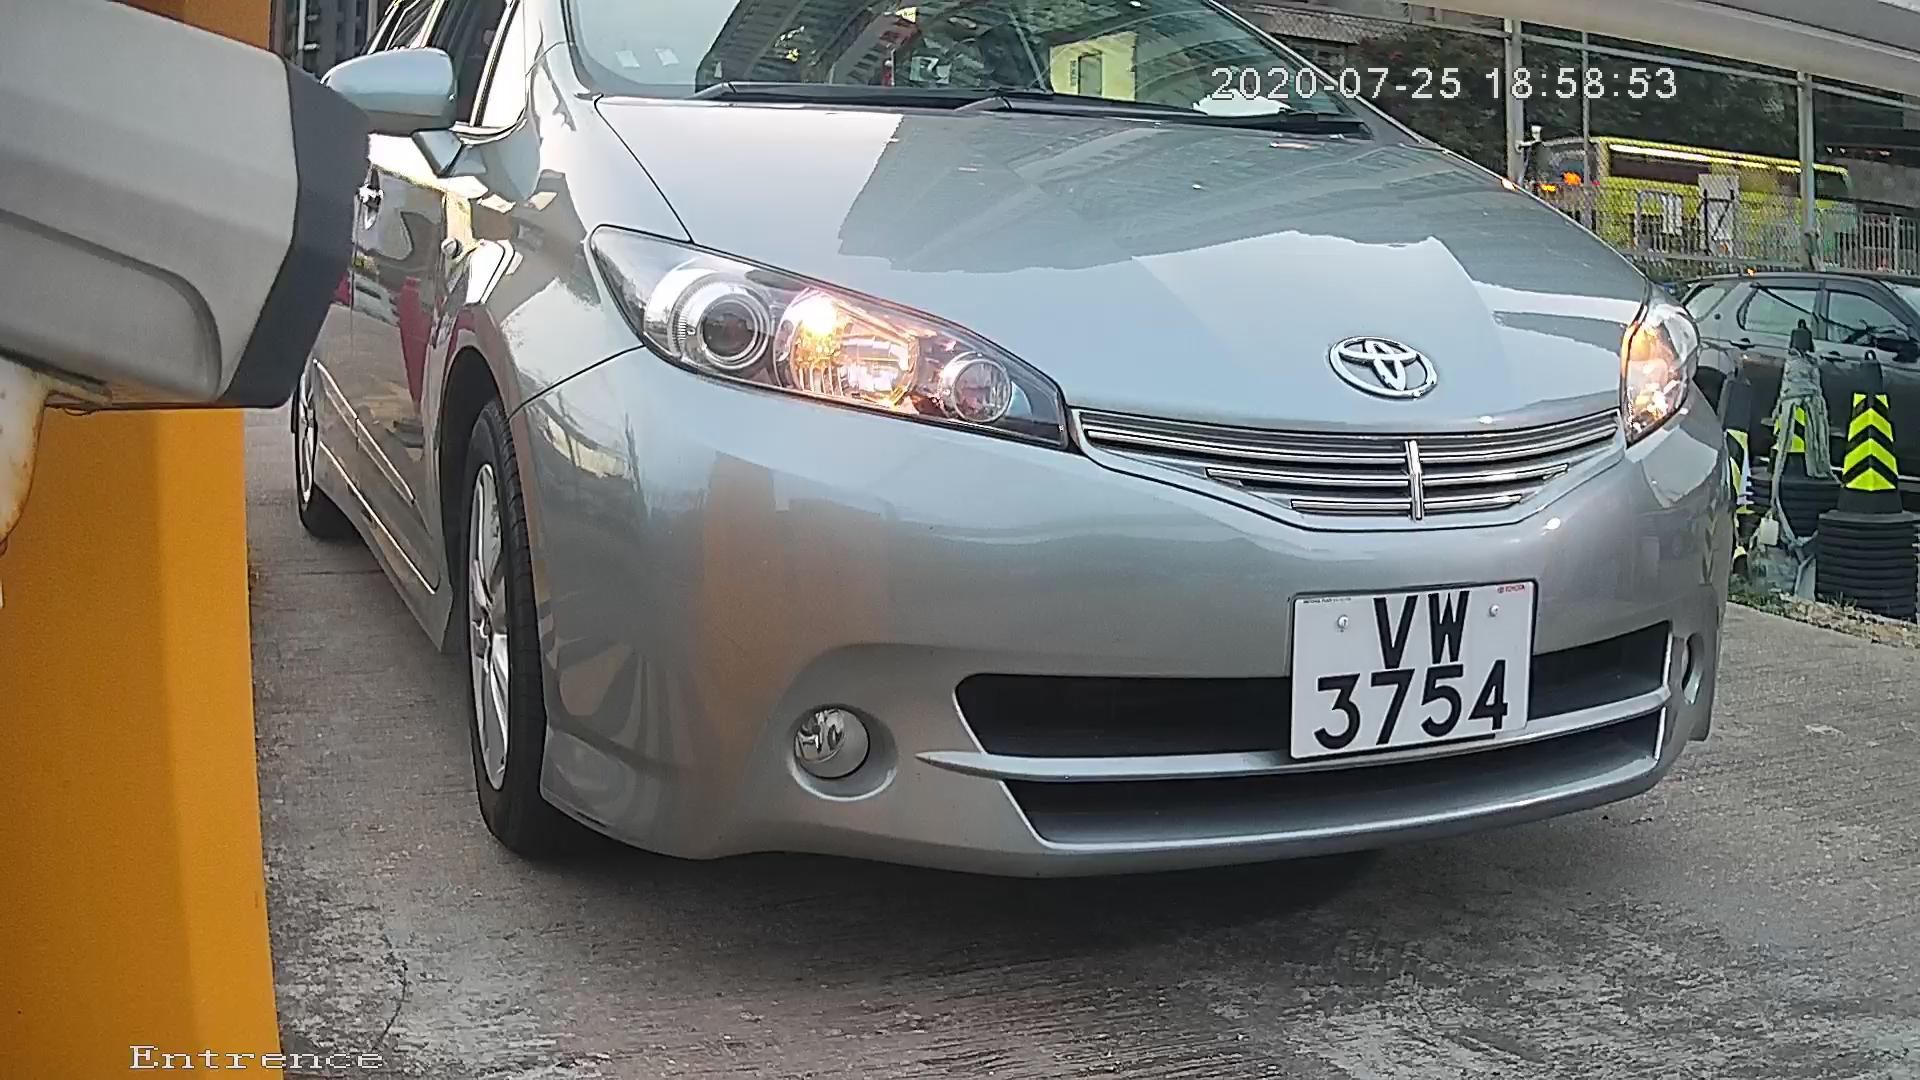License Plate: (1269, 565, 1561, 782)
